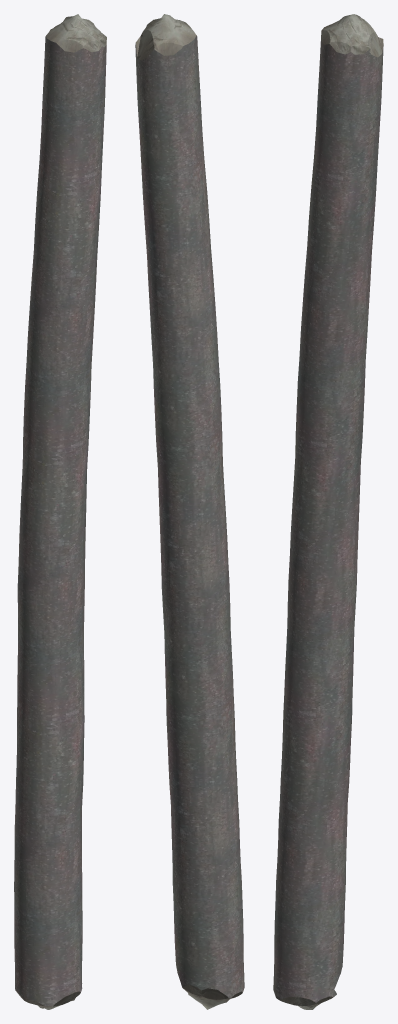
3 renders of one model, left to right at view 1: azimuth 30°, elevation 25°; view 2: azimuth 150°, elevation 25°; view 3: azimuth 330°, elevation 25°, orthographic.
Visible parts, largest first — view 1: SM_GF_Ash_Tree_02_tree_quarters_top_LOD0; view 2: SM_GF_Ash_Tree_02_tree_quarters_top_LOD0; view 3: SM_GF_Ash_Tree_02_tree_quarters_top_LOD0.
Part boxes in pixels (bbox=[...]): SM_GF_Ash_Tree_02_tree_quarters_top_LOD0: bbox=[14, 14, 106, 1009]; SM_GF_Ash_Tree_02_tree_quarters_top_LOD0: bbox=[135, 14, 244, 1009]; SM_GF_Ash_Tree_02_tree_quarters_top_LOD0: bbox=[273, 14, 383, 1009].
Bounding box in the file's own units: 0.6072 × 6.24 × 0.464.
Materials: 1 (1 with a texture image).
